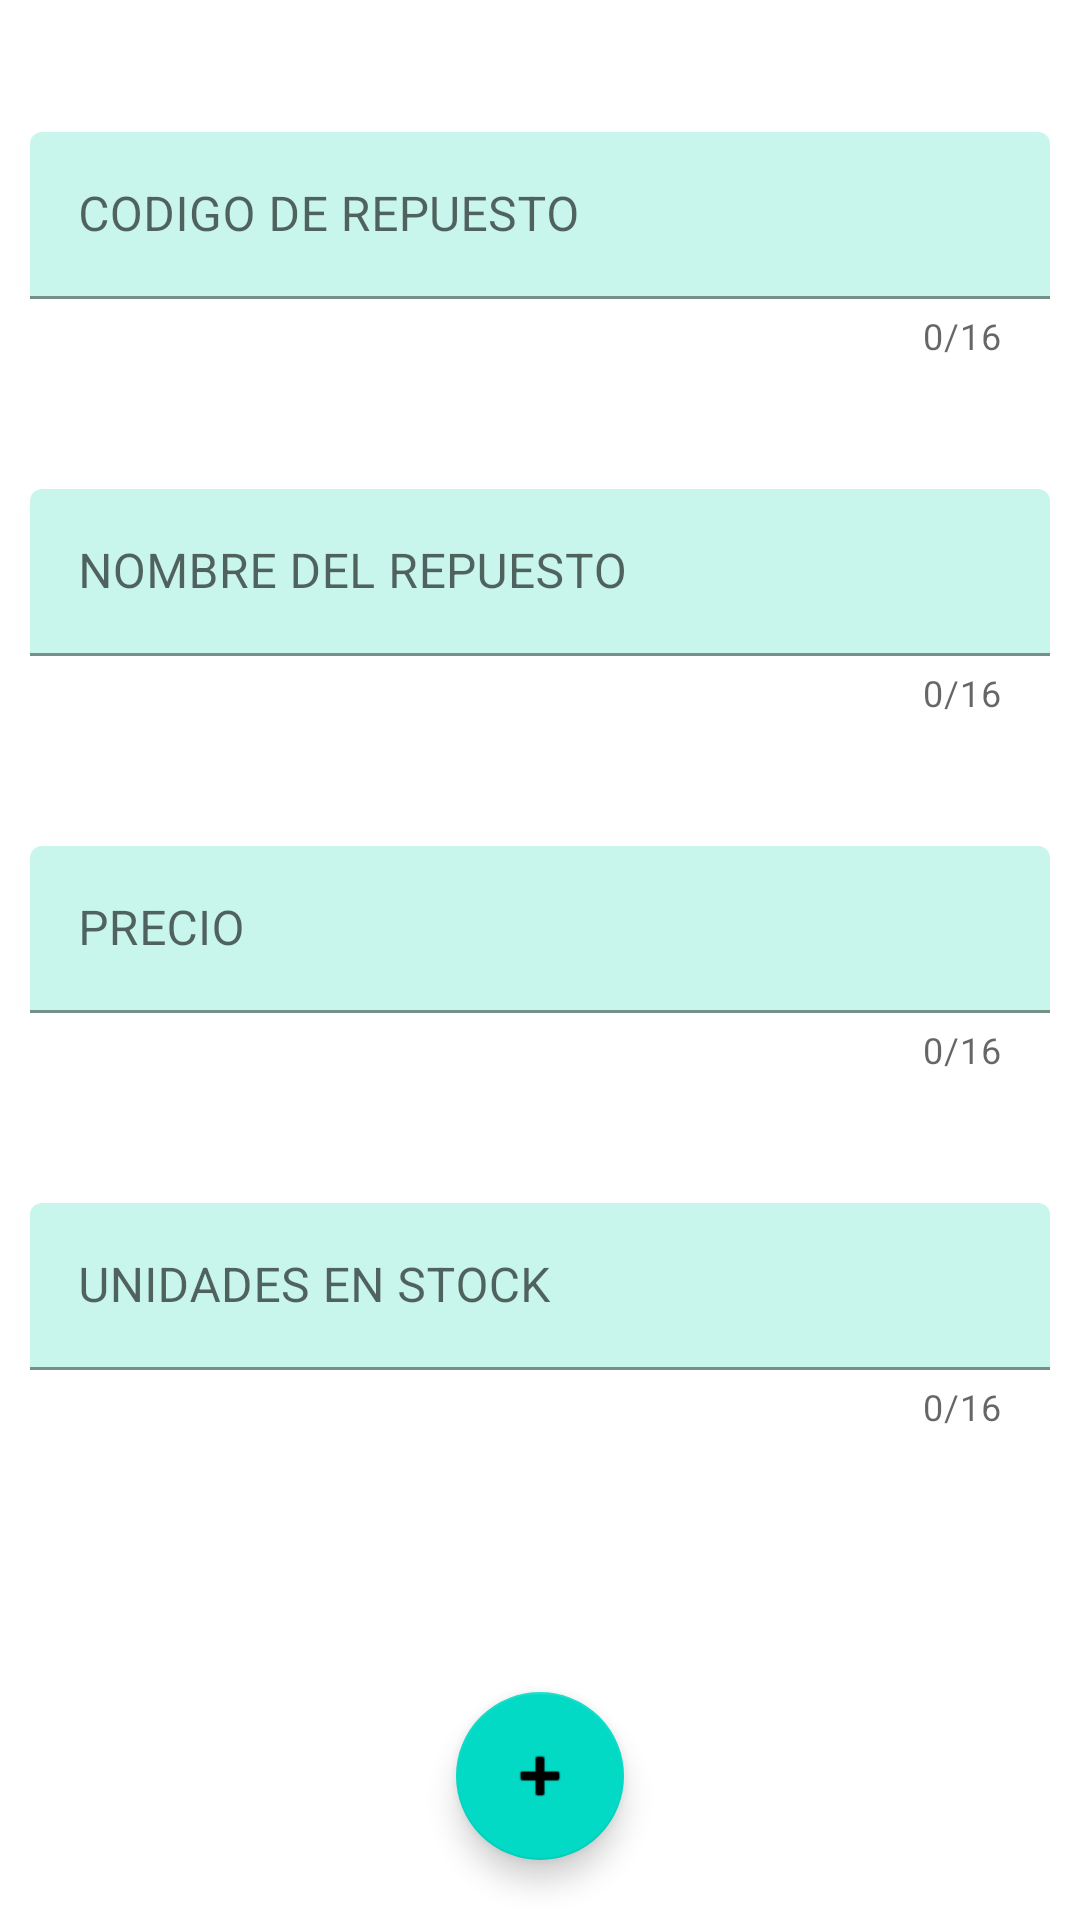

Icons on this 1080px×1920px Android screen, each with the point to tap as (x,y):
add: (540,1776)
